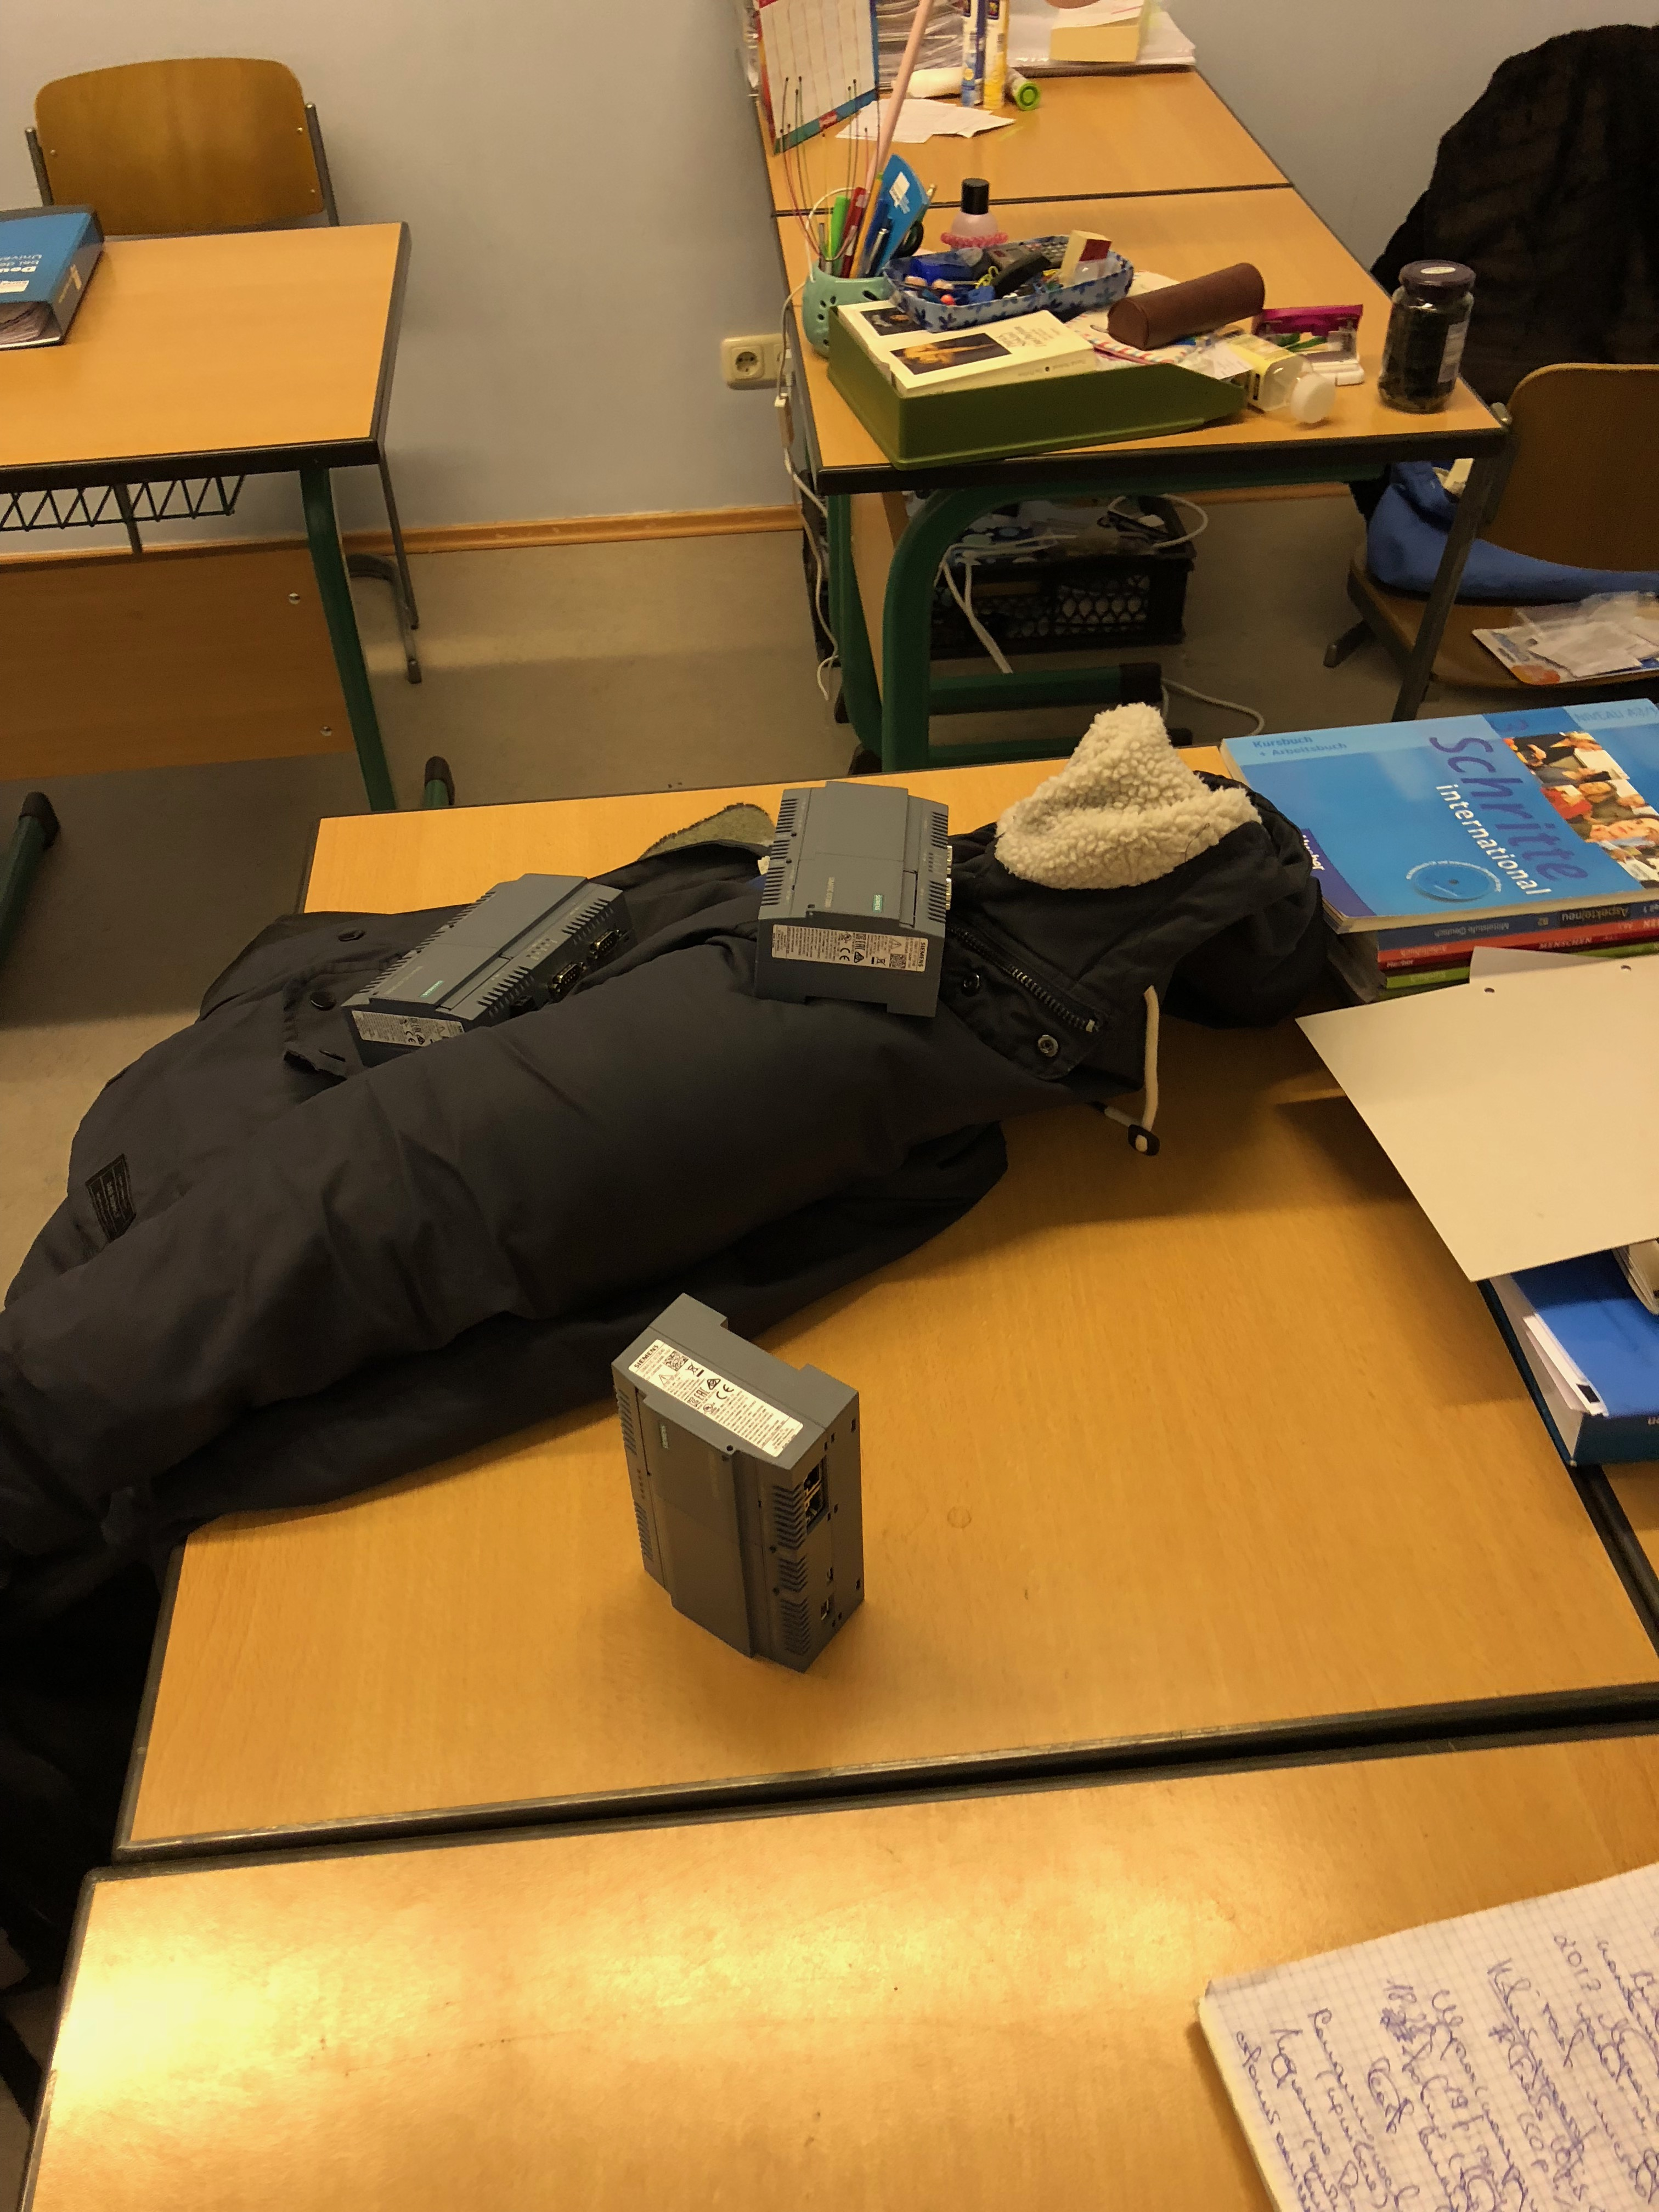device: (610, 1291, 866, 1676), (340, 873, 641, 1069), (753, 780, 953, 1017)
